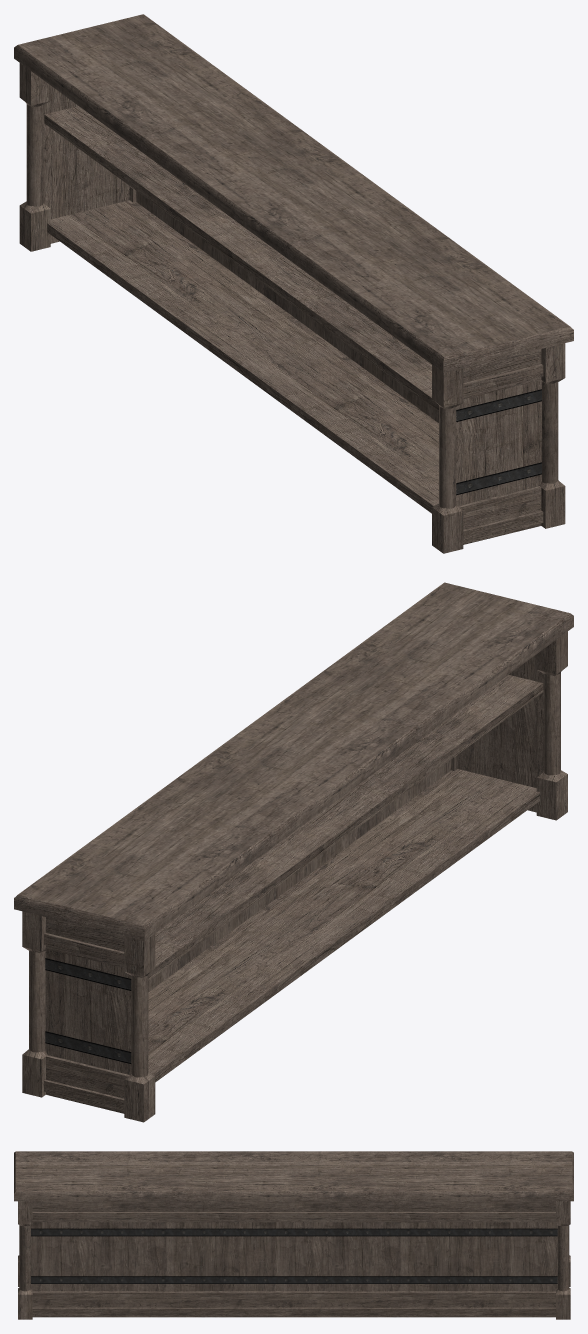
The model's file is mw_bar_02_01.FBX.
3 renders of one model, top to bottom at view 1: azimuth 30°, elevation 25°; view 2: azimuth 150°, elevation 25°; view 3: azimuth 270°, elevation 25°, orthographic. The views are drawn at different scales.
Parts seen in each view (by area): view 1: mw_bar_02_01; view 2: mw_bar_02_01; view 3: mw_bar_02_01.
Boxes of the visible parts, x1,y1,x2,y2 form: mw_bar_02_01: (14,14,573,553); mw_bar_02_01: (14,582,573,1122); mw_bar_02_01: (14,1151,573,1319).
Size of the model in its own units: 84.02 by 122 by 478.
